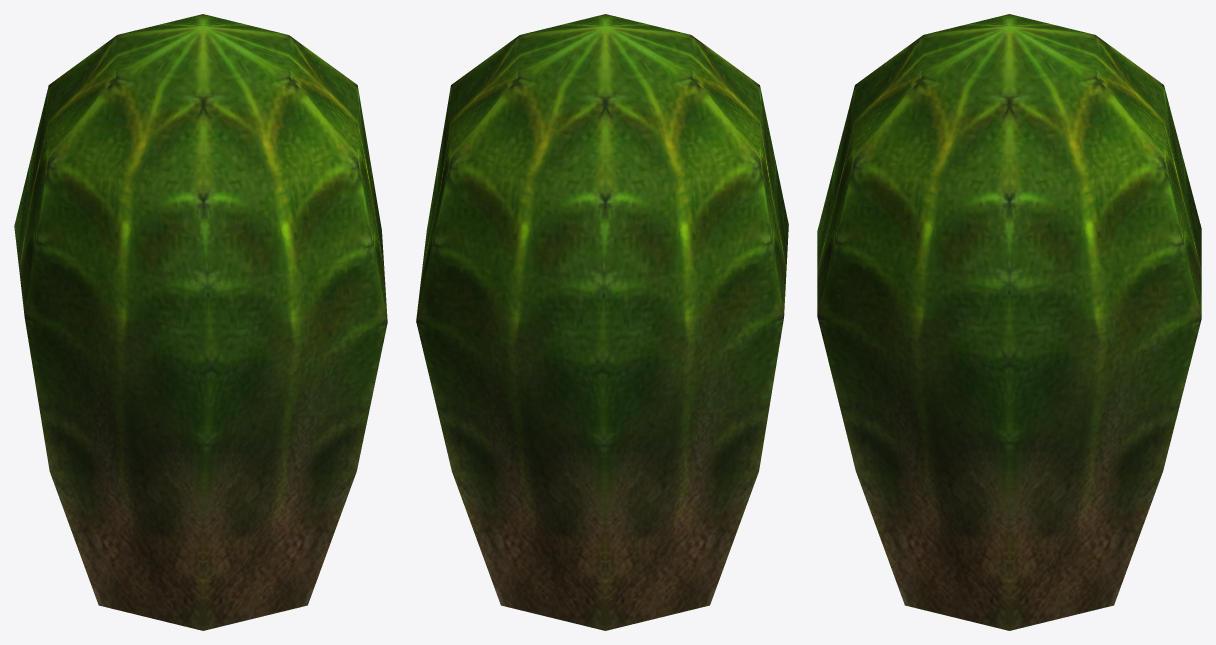
Rendered from cactus_05.glb.
3 views of the same model, side by side, from view 1: azimuth 30°, elevation 25°; view 2: azimuth 150°, elevation 25°; view 3: azimuth 270°, elevation 25° (orthographic).
Parts seen in each view (by area): view 1: Cylinder01; view 2: Cylinder01; view 3: Cylinder01.
Boxes of the visible parts, bbox=[...] form: Cylinder01: bbox=[14, 14, 387, 630]; Cylinder01: bbox=[416, 14, 788, 630]; Cylinder01: bbox=[817, 14, 1201, 630].
Size of the model in its own units: 1.1 by 1.63 by 1.02.
Materials: 1 (1 with a texture image).
